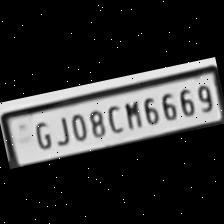0: (65, 108, 90, 141)
6: (172, 82, 196, 118), (154, 86, 178, 121), (136, 92, 160, 125)
8: (82, 104, 106, 138)
9: (190, 78, 215, 114)
C: (102, 98, 126, 133)
G: (26, 114, 53, 151)
J: (48, 110, 72, 146)
M: (118, 94, 143, 130)
